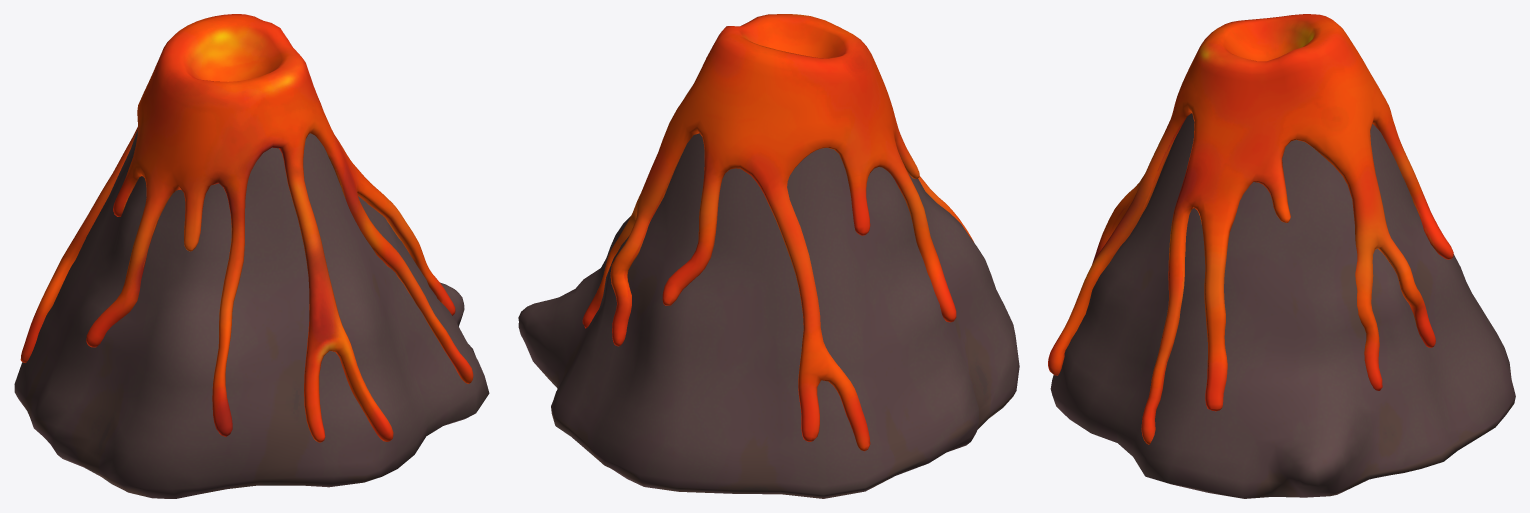
File: Volcano2.fbx
3 views of the same model, side by side, from view 1: azimuth 30°, elevation 25°; view 2: azimuth 150°, elevation 25°; view 3: azimuth 270°, elevation 25° (orthographic).
Visible parts, largest first — view 1: node_id5; view 2: node_id5; view 3: node_id5.
Boxes of the visible parts, box(x1,y1,x2,y2) form: node_id5: box(14, 14, 489, 498); node_id5: box(518, 14, 1019, 498); node_id5: box(1048, 14, 1515, 498).
Bounding box in the file's own units: 0.512 × 0.4241 × 0.4847.
1 material, 1 textured.
